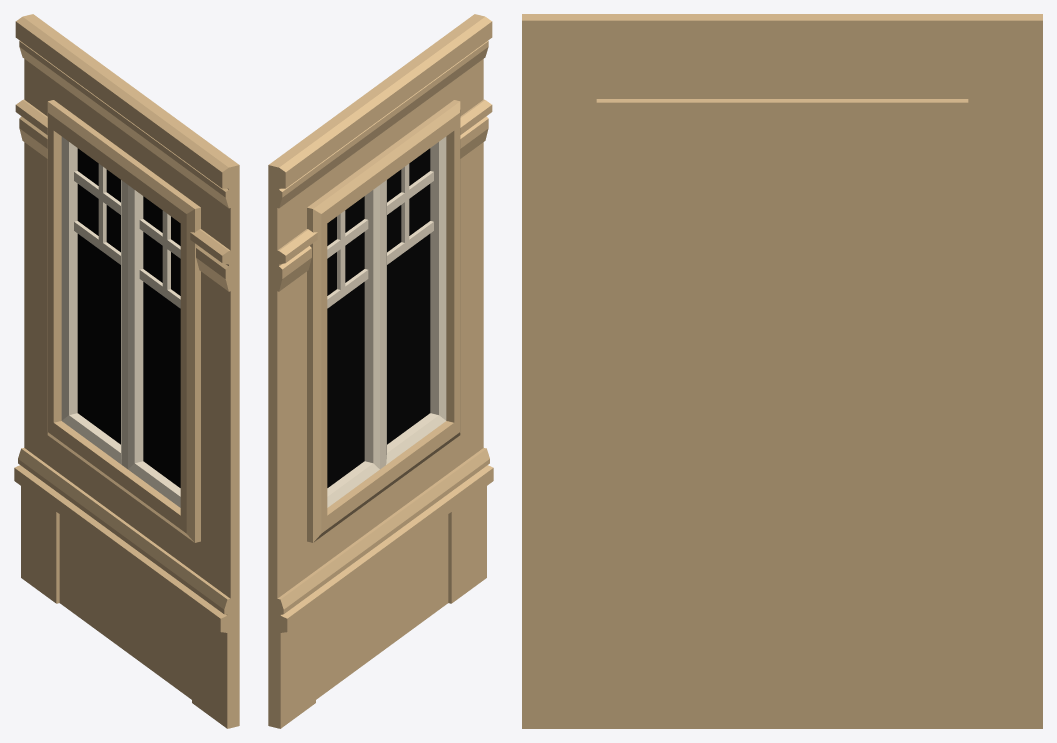
File: Window_Single_2.fbx
The picture shows the model from 3 angles, left to right: view 1: azimuth 30°, elevation 25°; view 2: azimuth 150°, elevation 25°; view 3: azimuth 270°, elevation 25°; orthographic projection. The views are drawn at different scales.
Visible parts, largest first — view 1: Window_Single_2; view 2: Window_Single_2; view 3: Window_Single_2.
Boxes of the visible parts, box(x1,y1,x2,y2) form: Window_Single_2: box(14, 14, 239, 728); Window_Single_2: box(268, 14, 493, 728); Window_Single_2: box(522, 14, 1042, 728).
Bounding box in the file's own units: 14.15 × 200 × 300.
